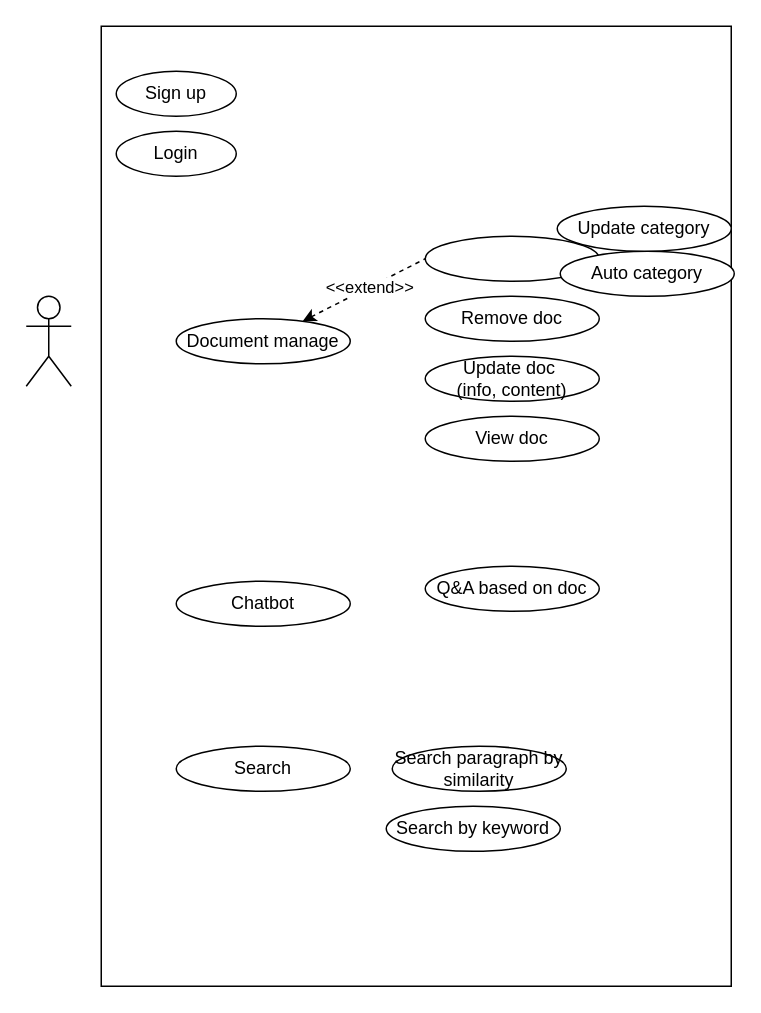
The diagram is 761 pixels wide and 1013 high, and some of its shapes have lost their labels. The centre of each missing label's shape, as x and y in pixels:
Add doc: [511,258]
User: [48,340]
